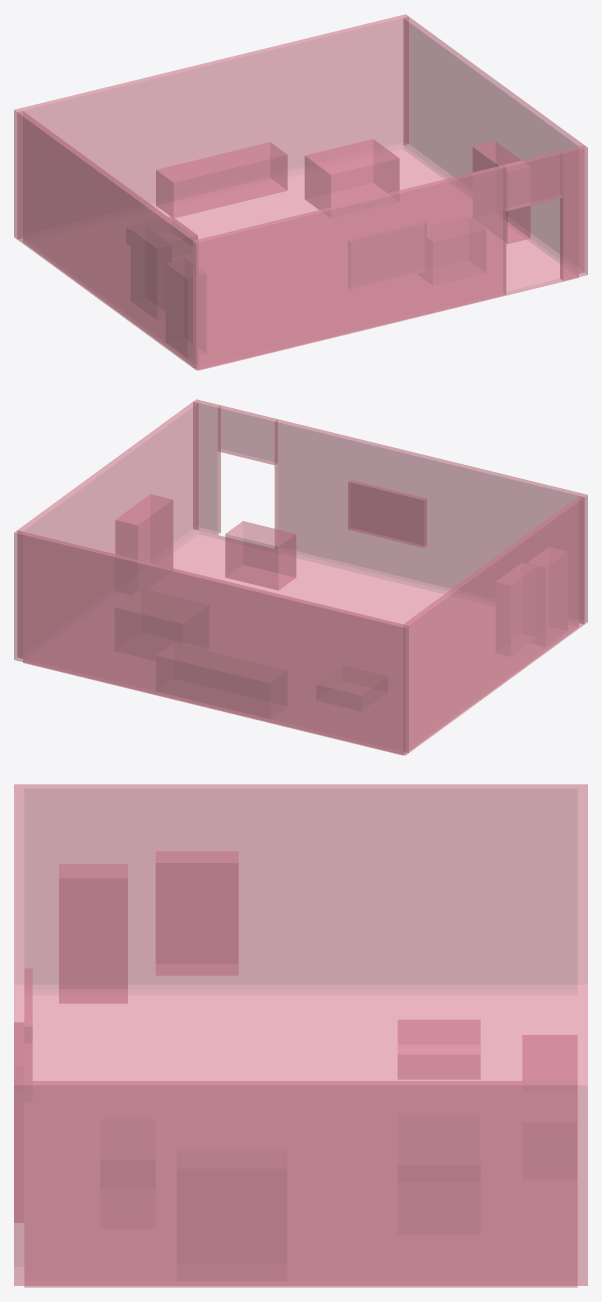
The picture shows the model from 3 angles, top to bottom: view 1: azimuth 30°, elevation 25°; view 2: azimuth 150°, elevation 25°; view 3: azimuth 270°, elevation 25°; orthographic projection. The views are drawn at different scales.
Visible parts, largest first — view 1: col-mur-nord, col-sol, col-mur-sud-gauche, col-mur-ouest, col-mur-est, col-poste-05-etabli, col-poste-06-banc-vibratoire, col-poste-07-etagere-lubrifiants, col-poste-01-panneau-accueil, col-mur-sud-droite, col-poste-02-armoire-electrique, col-poste-08-pupitre-evaluation (+3 smaller); view 2: col-mur-nord, col-sol, col-mur-sud-gauche, col-mur-ouest, col-mur-est, col-poste-05-etabli, col-poste-06-banc-vibratoire, col-poste-07-etagere-lubrifiants, col-poste-08-pupitre-evaluation, col-poste-01-panneau-accueil, col-mur-sud-droite, col-poste-02-armoire-electrique (+3 smaller); view 3: col-sol, col-mur-ouest, col-mur-est, col-poste-07-etagere-lubrifiants, col-poste-02-armoire-electrique, col-poste-06-banc-vibratoire, col-poste-03-armoire-epi, col-poste-05-etabli, col-poste-08-pupitre-evaluation, col-mur-nord, col-poste-04-socle-pompe, col-mur-sud-gauche (+3 smaller).
Boxes of the visible parts, bbox=[...] form: col-mur-nord: bbox=[14, 14, 408, 239]; col-sol: bbox=[23, 145, 578, 370]; col-mur-sud-gauche: bbox=[193, 165, 506, 370]; col-mur-ouest: bbox=[17, 111, 198, 367]; col-mur-est: bbox=[403, 17, 584, 273]; col-poste-05-etabli: bbox=[156, 142, 287, 217]; col-poste-06-banc-vibratoire: bbox=[304, 139, 399, 216]; col-poste-07-etagere-lubrifiants: bbox=[472, 141, 530, 243]; col-poste-01-panneau-accueil: bbox=[348, 222, 426, 289]; col-mur-sud-droite: bbox=[560, 145, 587, 280]; col-poste-02-armoire-electrique: bbox=[131, 226, 171, 319]; col-poste-08-pupitre-evaluation: bbox=[418, 217, 485, 285]; col-mur-nord: bbox=[14, 530, 408, 755]; col-sol: bbox=[23, 530, 578, 755]; col-mur-sud-gauche: bbox=[274, 419, 587, 624]; col-mur-ouest: bbox=[403, 496, 584, 752]; col-mur-est: bbox=[17, 402, 198, 658]; col-poste-05-etabli: bbox=[156, 643, 287, 718]; col-poste-06-banc-vibratoire: bbox=[115, 588, 208, 659]; col-poste-07-etagere-lubrifiants: bbox=[115, 494, 173, 591]; col-poste-08-pupitre-evaluation: bbox=[225, 521, 296, 590]; col-poste-01-panneau-accueil: bbox=[348, 480, 426, 547]; col-mur-sud-droite: bbox=[193, 399, 220, 534]; col-poste-02-armoire-electrique: bbox=[496, 563, 536, 656]; col-sol: bbox=[24, 989, 577, 1287]; col-mur-ouest: bbox=[24, 784, 577, 989]; col-mur-est: bbox=[24, 1081, 577, 1285]; col-poste-07-etagere-lubrifiants: bbox=[177, 1151, 286, 1280]; col-poste-02-armoire-electrique: bbox=[155, 851, 238, 975]; col-poste-06-banc-vibratoire: bbox=[398, 1113, 480, 1234]; col-poste-03-armoire-epi: bbox=[59, 864, 127, 1003]; col-poste-05-etabli: bbox=[522, 1035, 577, 1178]; col-poste-08-pupitre-evaluation: bbox=[100, 1119, 155, 1228]; col-mur-nord: bbox=[577, 784, 587, 1285]; col-poste-04-socle-pompe: bbox=[397, 1019, 480, 1079]; col-mur-sud-gauche: bbox=[14, 784, 24, 1222].
Size of the model in its own units: 10.3 by 3.3 by 8.3.
